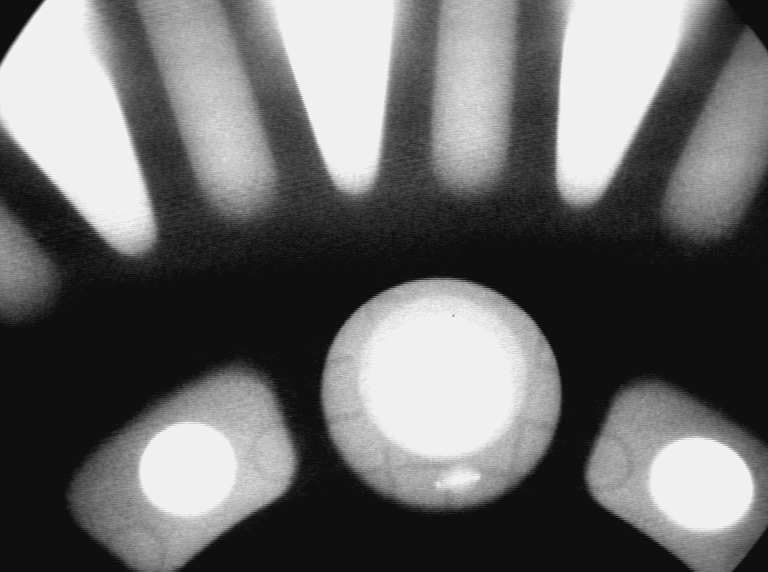defect: (437, 467, 487, 497)
